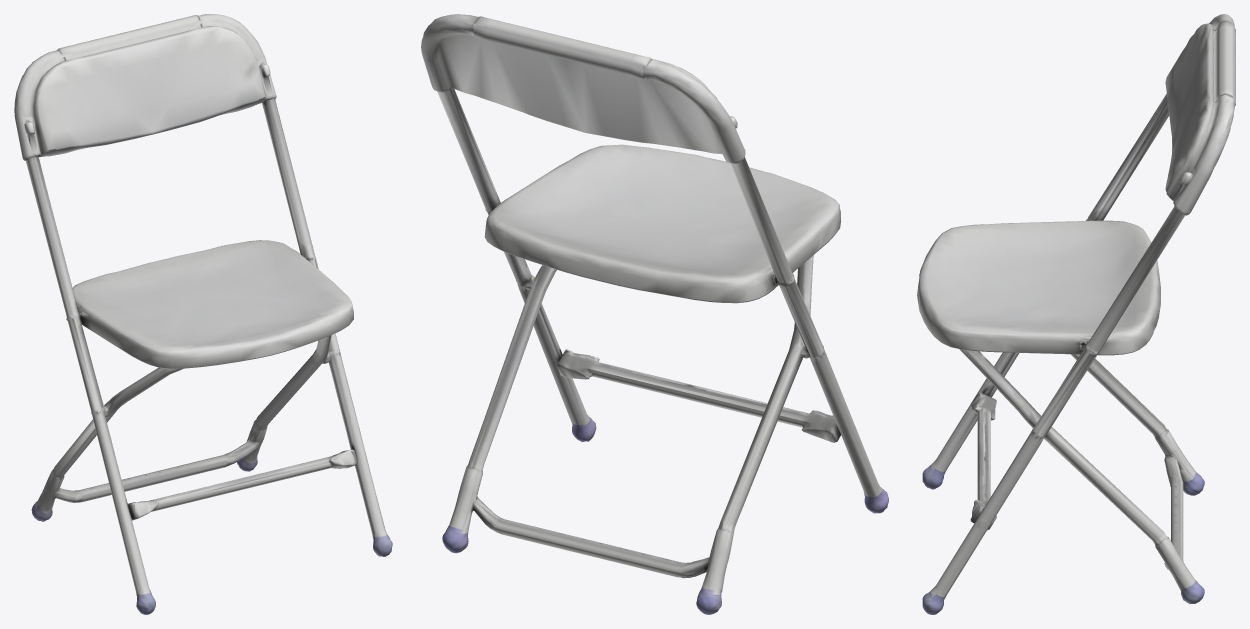
File: folding_chair_0119025643_texture_v2_20260927.glb
3 views of the same model, side by side, from view 1: azimuth 30°, elevation 25°; view 2: azimuth 150°, elevation 25°; view 3: azimuth 270°, elevation 25° (orthographic). The views are drawn at different scales.
Parts seen in each view (by area): view 1: Mesh_0; view 2: Mesh_0; view 3: Mesh_0.
Boxes of the visible parts, x1,y1,x2,y2 form: Mesh_0: (14,14,392,614); Mesh_0: (421,14,888,614); Mesh_0: (917,14,1235,614).
Size of the model in its own units: 0.4757 by 0.8128 by 0.4757.
Materials: 1 (1 with a texture image).
